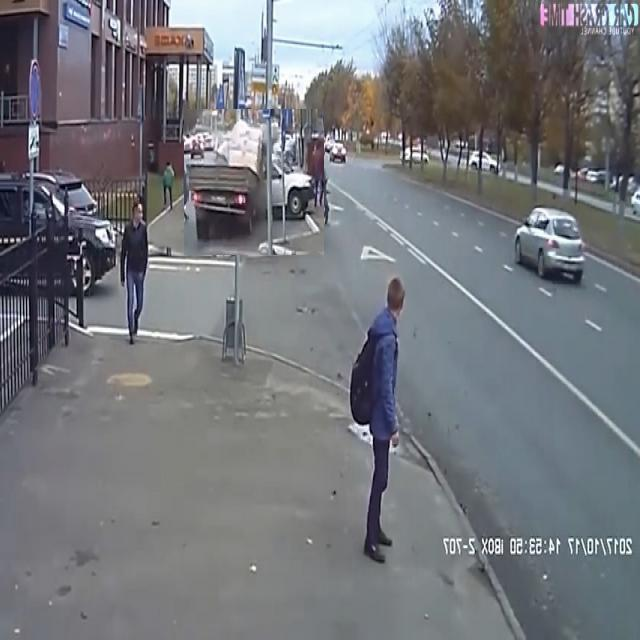multiple_accident: (159, 76, 331, 246)
